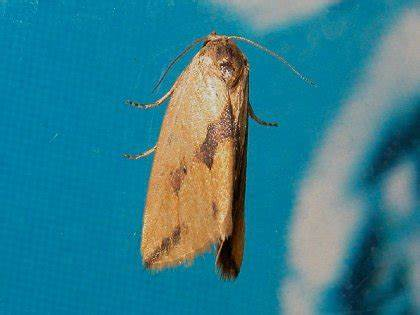Noctuidae: (123, 34, 312, 287)
